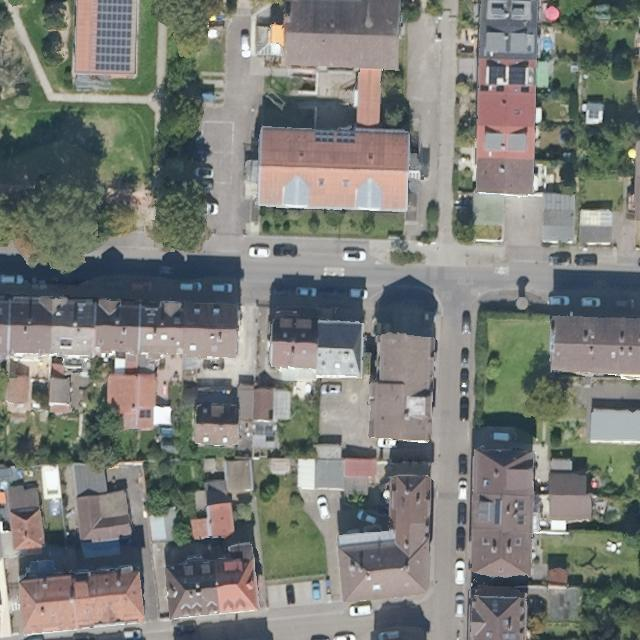PV: (91, 1, 136, 72), (508, 62, 531, 86), (486, 62, 508, 86)
